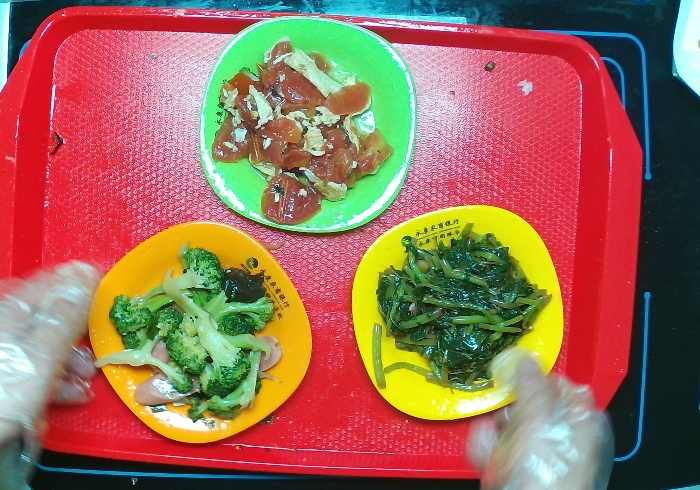YKMZ-Huang_Se_Fang_Die: (349, 204, 566, 424)
YKMZ-Ju_Se_Fang_Die: (88, 220, 312, 446)
YKMZ-Lv_Se_Fang_Die: (198, 13, 418, 236)
